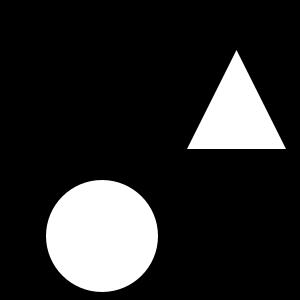rectangle: (46, 180, 158, 292)
triangle: (187, 50, 286, 149)
